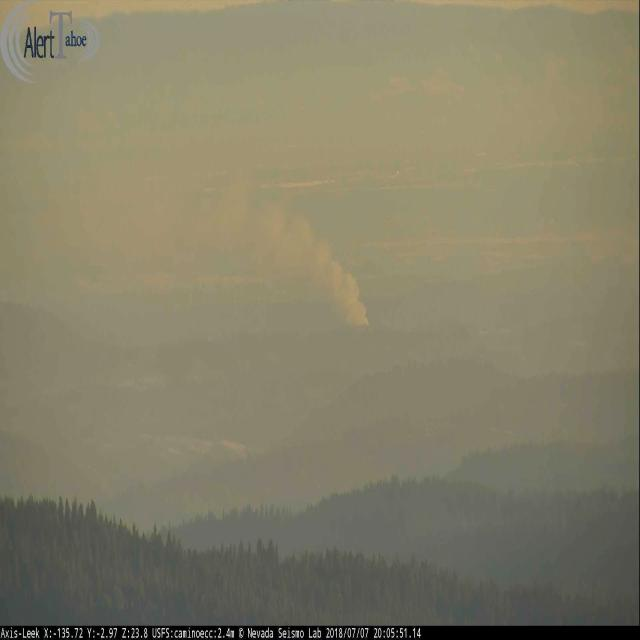smoke: (261, 200, 369, 330)
